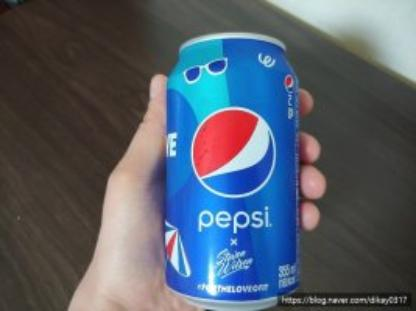Can: (165, 32, 301, 311)
